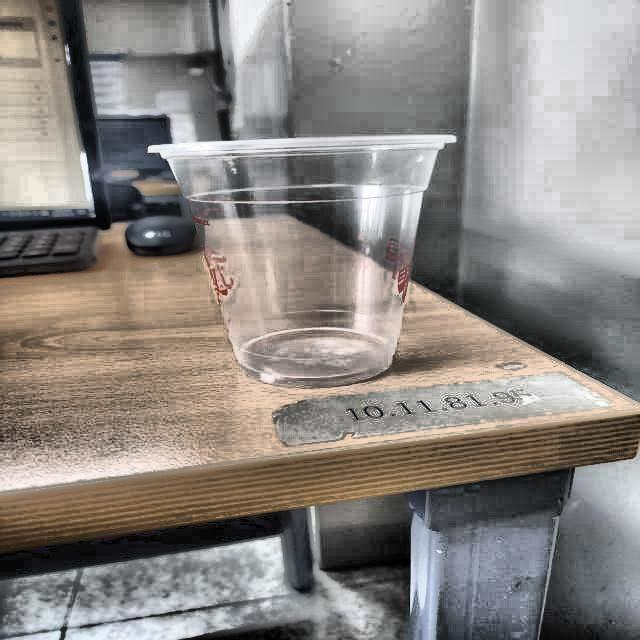plastic cup: (147, 130, 460, 384)
